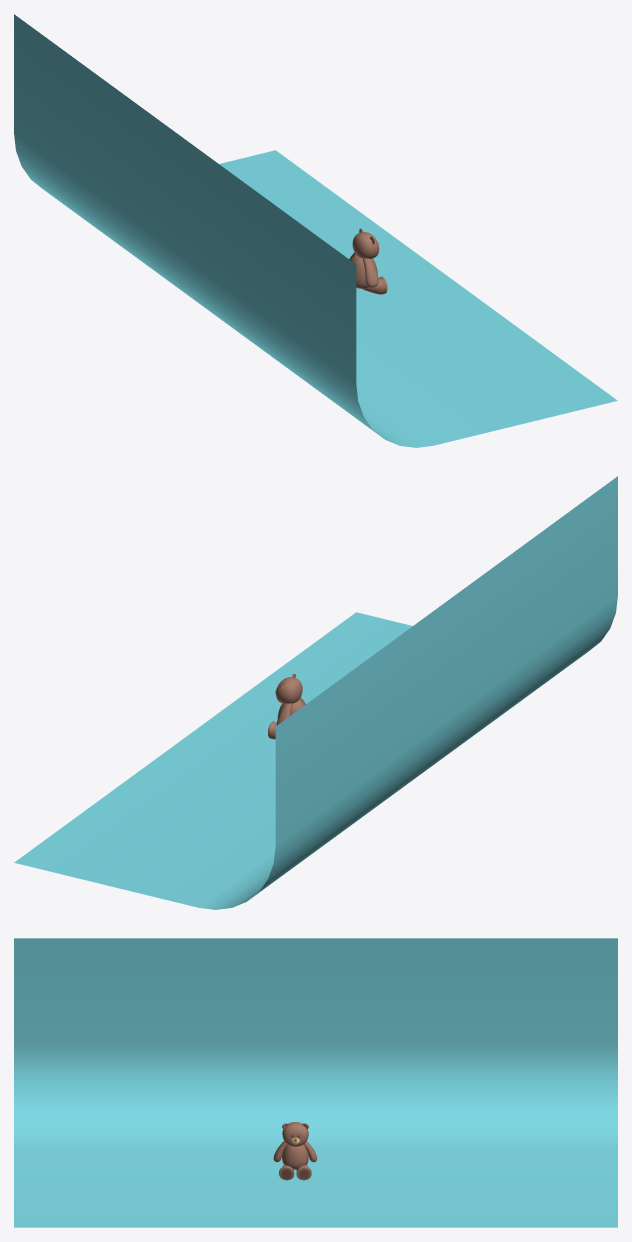
Rendered from Bear.glb.
The picture shows the model from 3 angles, top to bottom: view 1: azimuth 30°, elevation 25°; view 2: azimuth 150°, elevation 25°; view 3: azimuth 270°, elevation 25°; orthographic projection. The views are drawn at different scales.
Visible parts, largest first — view 1: Plane; view 2: Plane, Cube.002; view 3: Plane, Cube, Cube.002.
Boxes of the visible parts, x1,y1,x2,y2 form: Plane: [14, 14, 617, 447]; Plane: [14, 476, 617, 909]; Cube.002: [275, 677, 302, 704]; Plane: [14, 938, 617, 1227]; Cube: [282, 1144, 308, 1169]; Cube.002: [282, 1122, 308, 1146].
Bounding box in the file's own units: 17.89 × 13.07 × 40.54.
